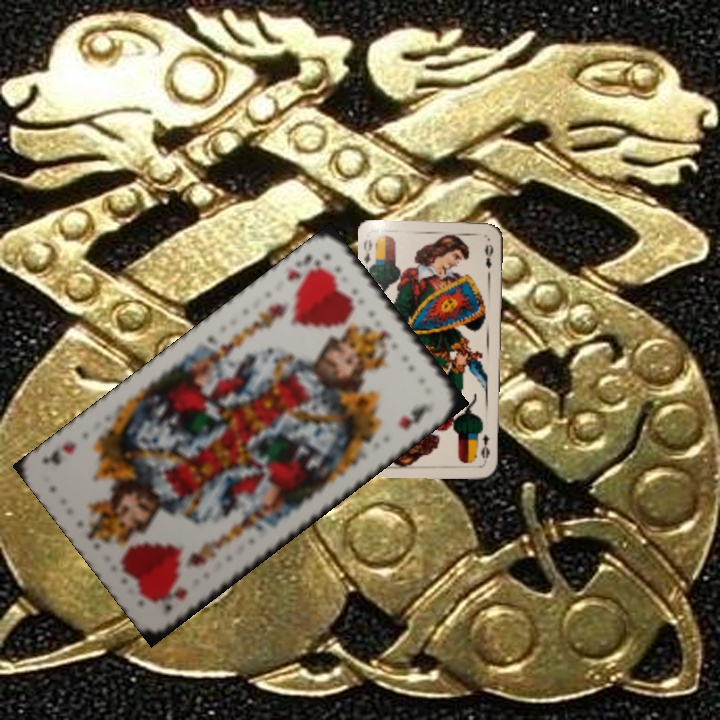EO: (360, 236, 379, 274), (476, 430, 492, 465)
HK: (283, 249, 326, 291), (160, 583, 191, 613)
